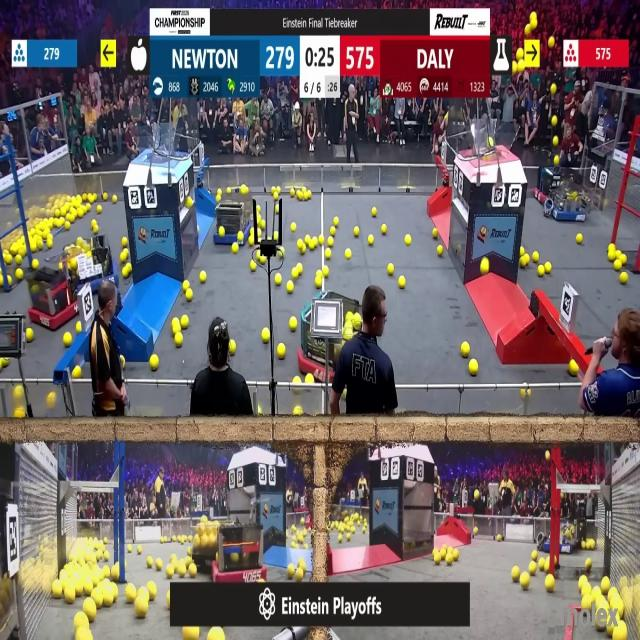ball_airborne: (487, 138, 495, 156), (530, 12, 537, 29), (515, 49, 522, 62), (516, 61, 524, 72), (551, 85, 558, 96), (532, 58, 539, 69), (554, 136, 560, 146), (554, 156, 560, 166), (525, 26, 531, 36), (547, 38, 553, 48), (472, 490, 478, 500), (553, 115, 558, 126), (544, 452, 548, 461)
ball_ground: (136, 598, 148, 618), (86, 604, 98, 623), (185, 626, 200, 640), (64, 585, 75, 602), (127, 586, 137, 604), (520, 572, 530, 589), (482, 259, 491, 276), (580, 594, 590, 609), (149, 354, 158, 370), (544, 578, 553, 594), (46, 392, 55, 408), (209, 628, 221, 640), (103, 593, 113, 607), (54, 584, 63, 599), (607, 245, 615, 261), (601, 576, 609, 592), (82, 582, 91, 596), (13, 386, 22, 400), (569, 360, 577, 375), (468, 359, 476, 374), (148, 585, 156, 600), (111, 565, 119, 580), (187, 564, 196, 577), (263, 328, 271, 342), (64, 334, 72, 348), (461, 343, 469, 357), (513, 566, 520, 581), (277, 345, 285, 358), (529, 561, 537, 574), (230, 341, 237, 355), (173, 318, 180, 332), (578, 575, 585, 589), (289, 318, 297, 330), (180, 316, 188, 328), (295, 568, 303, 580), (175, 335, 182, 348), (27, 328, 34, 341), (521, 256, 530, 266), (14, 410, 23, 420), (73, 365, 81, 376), (286, 282, 294, 293), (178, 565, 186, 576), (0, 357, 8, 368), (68, 213, 76, 224), (275, 274, 282, 286), (288, 564, 294, 578), (621, 273, 628, 285), (433, 553, 440, 565), (103, 566, 110, 578), (5, 276, 12, 288), (75, 631, 84, 640), (292, 408, 300, 418), (532, 252, 540, 262), (112, 588, 118, 601), (185, 289, 192, 300), (15, 270, 22, 281), (167, 566, 174, 577), (615, 261, 622, 272), (307, 237, 314, 248), (453, 551, 460, 562), (388, 265, 394, 277), (201, 272, 207, 284), (538, 266, 544, 278), (543, 560, 549, 572), (4, 254, 12, 263), (307, 375, 314, 385), (233, 244, 240, 254), (291, 270, 298, 280), (586, 559, 593, 569), (121, 268, 128, 278), (119, 252, 126, 262), (403, 236, 410, 246), (446, 556, 453, 566), (297, 560, 304, 570), (398, 277, 404, 288), (316, 277, 322, 288), (155, 559, 161, 570), (324, 248, 330, 259), (259, 254, 266, 263), (292, 376, 299, 385), (346, 249, 352, 259), (250, 263, 256, 273), (576, 235, 582, 245), (544, 264, 550, 274), (327, 238, 333, 248), (32, 261, 38, 271), (532, 551, 538, 561), (148, 558, 154, 568), (76, 321, 81, 333), (120, 238, 126, 248), (367, 236, 373, 246), (322, 268, 328, 278), (186, 198, 192, 208), (381, 223, 387, 233), (335, 216, 341, 226), (256, 216, 262, 226), (78, 207, 84, 217), (616, 250, 622, 260), (14, 255, 21, 263), (262, 220, 269, 228), (248, 237, 254, 246), (93, 223, 99, 232), (171, 554, 177, 563), (242, 184, 248, 193), (254, 249, 260, 258), (104, 553, 110, 562), (521, 389, 527, 398), (622, 255, 628, 264), (183, 280, 188, 290), (437, 244, 442, 254), (46, 239, 51, 249), (239, 233, 244, 243), (319, 236, 324, 246), (290, 222, 296, 230), (370, 208, 376, 216), (298, 246, 304, 254), (329, 226, 335, 234), (0, 276, 4, 288), (307, 190, 313, 198), (432, 230, 437, 239), (354, 226, 359, 235), (520, 247, 525, 256), (296, 190, 301, 199), (277, 250, 283, 257), (87, 205, 93, 212), (275, 233, 280, 241), (112, 194, 117, 202), (256, 230, 261, 238), (339, 534, 344, 542), (128, 543, 133, 551), (290, 189, 295, 197), (347, 533, 352, 541), (89, 192, 94, 200), (187, 546, 192, 554), (88, 634, 94, 640), (274, 192, 279, 199), (103, 192, 108, 199), (299, 519, 304, 526), (216, 194, 221, 201), (216, 188, 221, 195), (276, 206, 280, 214), (98, 206, 102, 214), (66, 222, 70, 230), (138, 545, 142, 553), (257, 410, 261, 418), (256, 205, 260, 213), (269, 236, 274, 242), (497, 534, 501, 541), (250, 227, 254, 234), (226, 187, 230, 194), (162, 536, 166, 542), (473, 528, 476, 534)
goal: (466, 124, 521, 160), (128, 129, 188, 160)
robot_blue: (60, 236, 114, 284), (213, 192, 256, 247), (544, 173, 590, 223)
robot_red: (299, 296, 348, 383), (26, 267, 78, 330), (211, 525, 265, 585), (538, 160, 588, 204)
